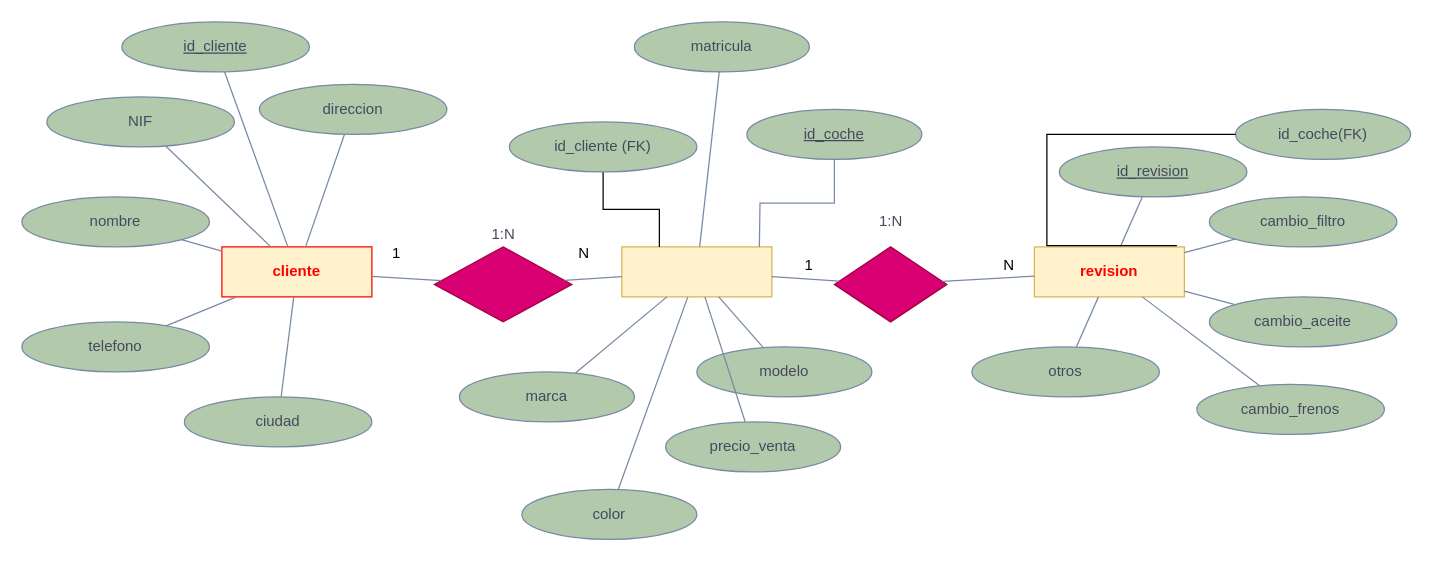
Image size: 1433x561. Some labels were removed from this diagram. The centre of each missing label's shape, as x and y in pixels:
"coche" belongs at point 696,271.
"compra" belongs at point 502,284.
"pasa" belongs at point 890,284.
